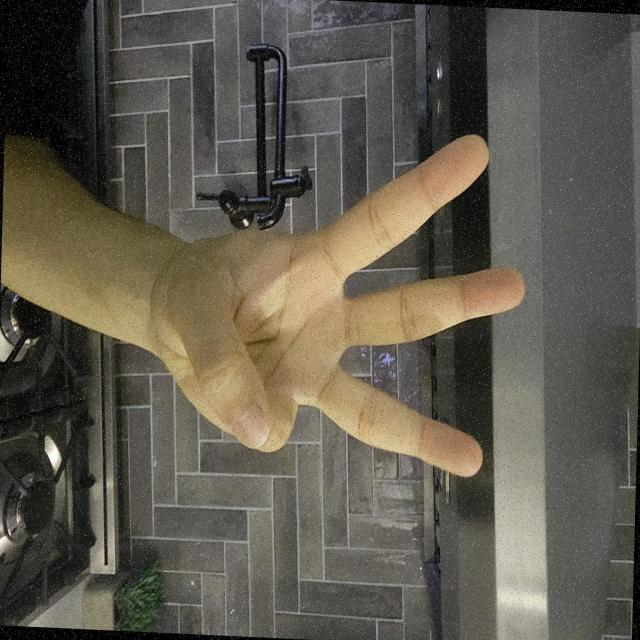W: (242, 147, 520, 640)
